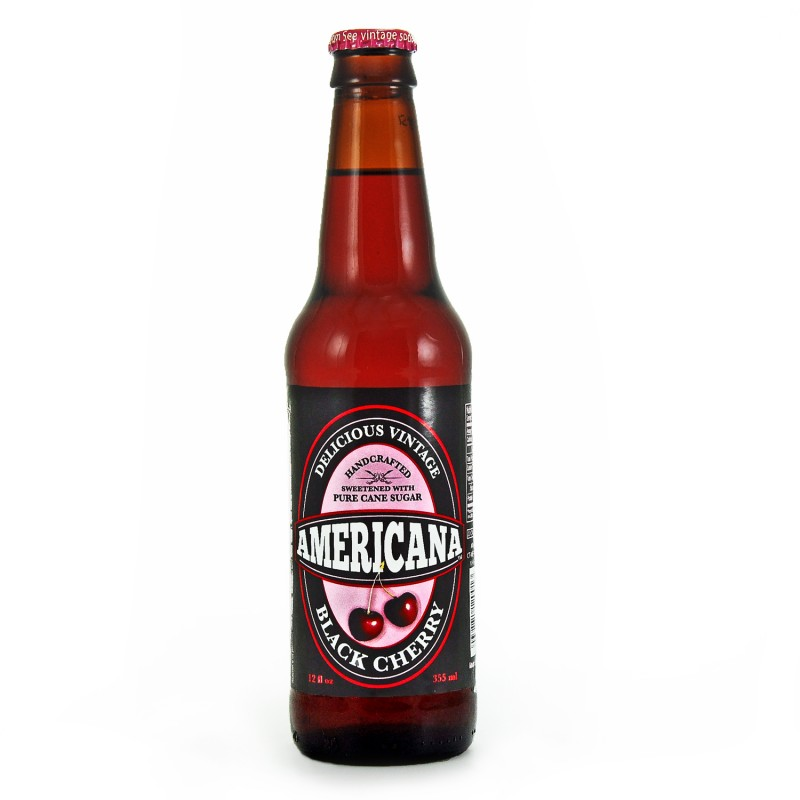Rec_Glass: (250, 13, 508, 771)
